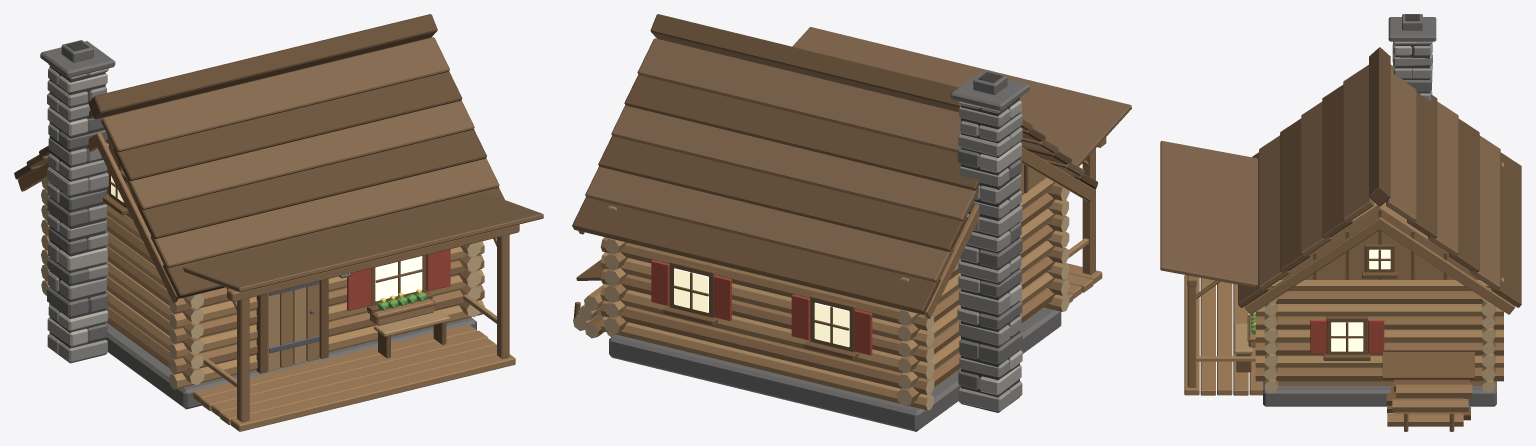
Rendered from house_d.glb.
3 renders of one model, left to right at view 1: azimuth 30°, elevation 25°; view 2: azimuth 150°, elevation 25°; view 3: azimuth 270°, elevation 25°, orthographic. The views are drawn at different scales.
Parts seen in each view (by area): view 1: HouseD; view 2: HouseD; view 3: HouseD.
Boxes of the visible parts, <box> form: HouseD: <box>14,14,543,431</box>; HouseD: <box>572,14,1131,431</box>; HouseD: <box>1160,14,1521,431</box>.
Size of the model in its own units: 7.14 by 5.28 by 6.64.
